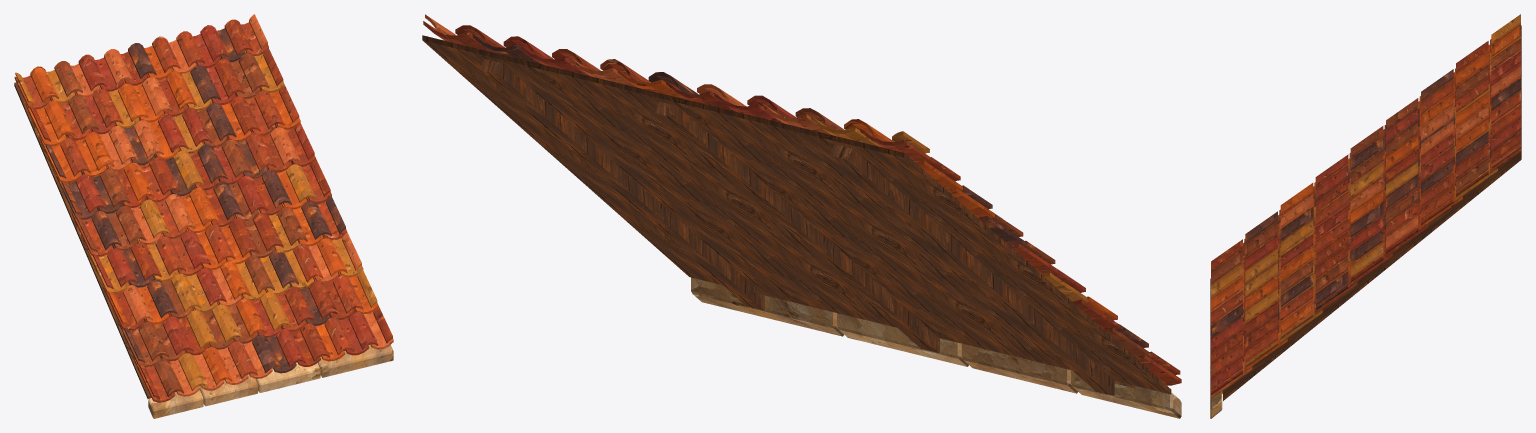
The model's file is roof_45__clay_brick.glb.
3 views of the same model, side by side, from view 1: azimuth 30°, elevation 25°; view 2: azimuth 150°, elevation 25°; view 3: azimuth 270°, elevation 25° (orthographic). The views are drawn at different scales.
Parts seen in each view (by area): view 1: model; view 2: model; view 3: model.
Boxes of the visible parts, x1,y1,x2,y2 form: model: (14, 14, 393, 418); model: (422, 14, 1181, 418); model: (1210, 14, 1521, 418).
Size of the model in its own units: 1.99 by 1.94 by 1.99.
12 materials, 12 textured.
